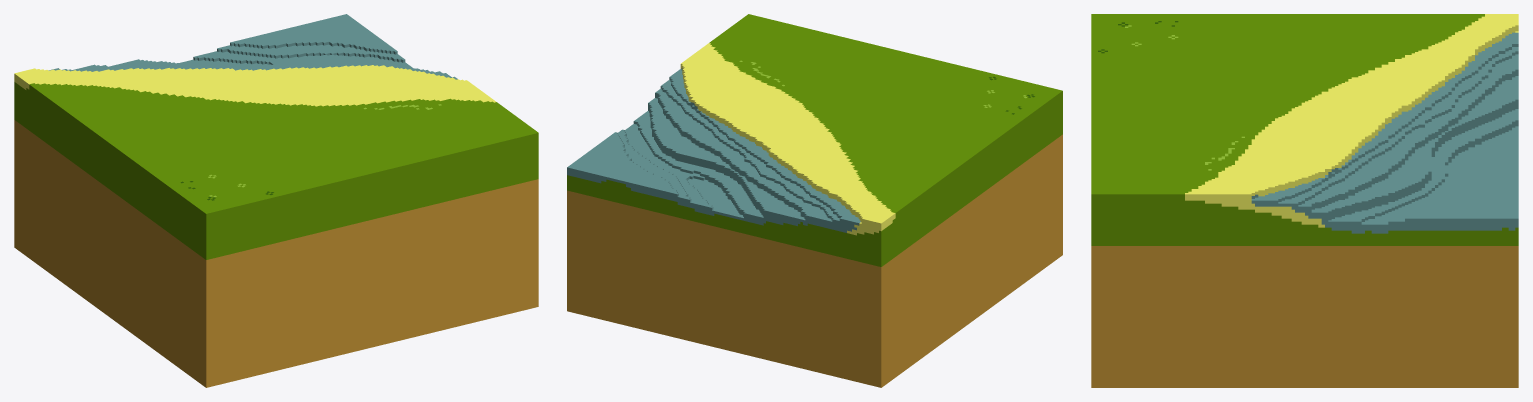
3 renders of one model, left to right at view 1: azimuth 30°, elevation 25°; view 2: azimuth 150°, elevation 25°; view 3: azimuth 270°, elevation 25°, orthographic. The views are drawn at different scales.
Visible parts, largest first — view 1: 11K; view 2: 11K; view 3: 11K.
Boxes of the visible parts, x1=… form: 11K: x1=14, y1=14, x2=538, y2=387; 11K: x1=567, y1=14, x2=1062, y2=387; 11K: x1=1091, y1=14, x2=1518, y2=387.
Bounding box in the file's own units: 12.8 × 6.4 × 12.8.
1 material, 1 textured.
